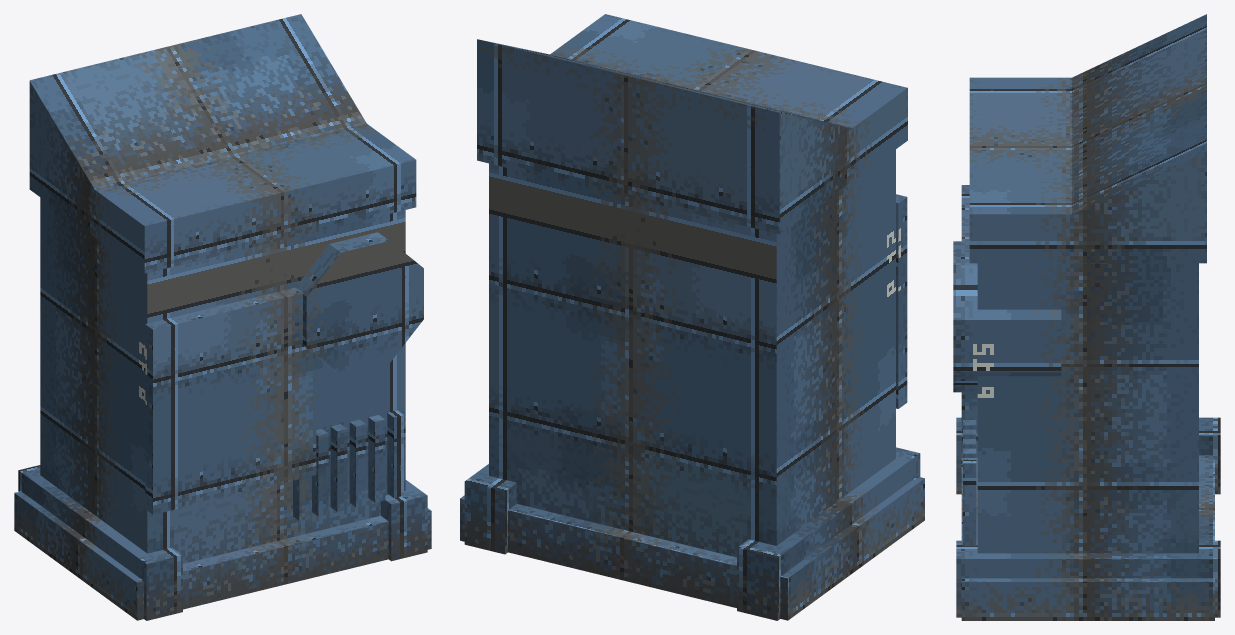
Rendered from prop_machinery_unit.glb.
3 renders of one model, left to right at view 1: azimuth 30°, elevation 25°; view 2: azimuth 150°, elevation 25°; view 3: azimuth 270°, elevation 25°, orthographic. The views are drawn at different scales.
Parts seen in each view (by area): view 1: prop_machinery_unit; view 2: prop_machinery_unit; view 3: prop_machinery_unit.
Part boxes in pixels (x1=…): prop_machinery_unit: x1=14, y1=14, x2=431, y2=620; prop_machinery_unit: x1=460, y1=14, x2=924, y2=620; prop_machinery_unit: x1=953, y1=14, x2=1220, y2=620.
Size of the model in its own units: 1.3 by 1.9 by 0.99.
1 material, 1 textured.
